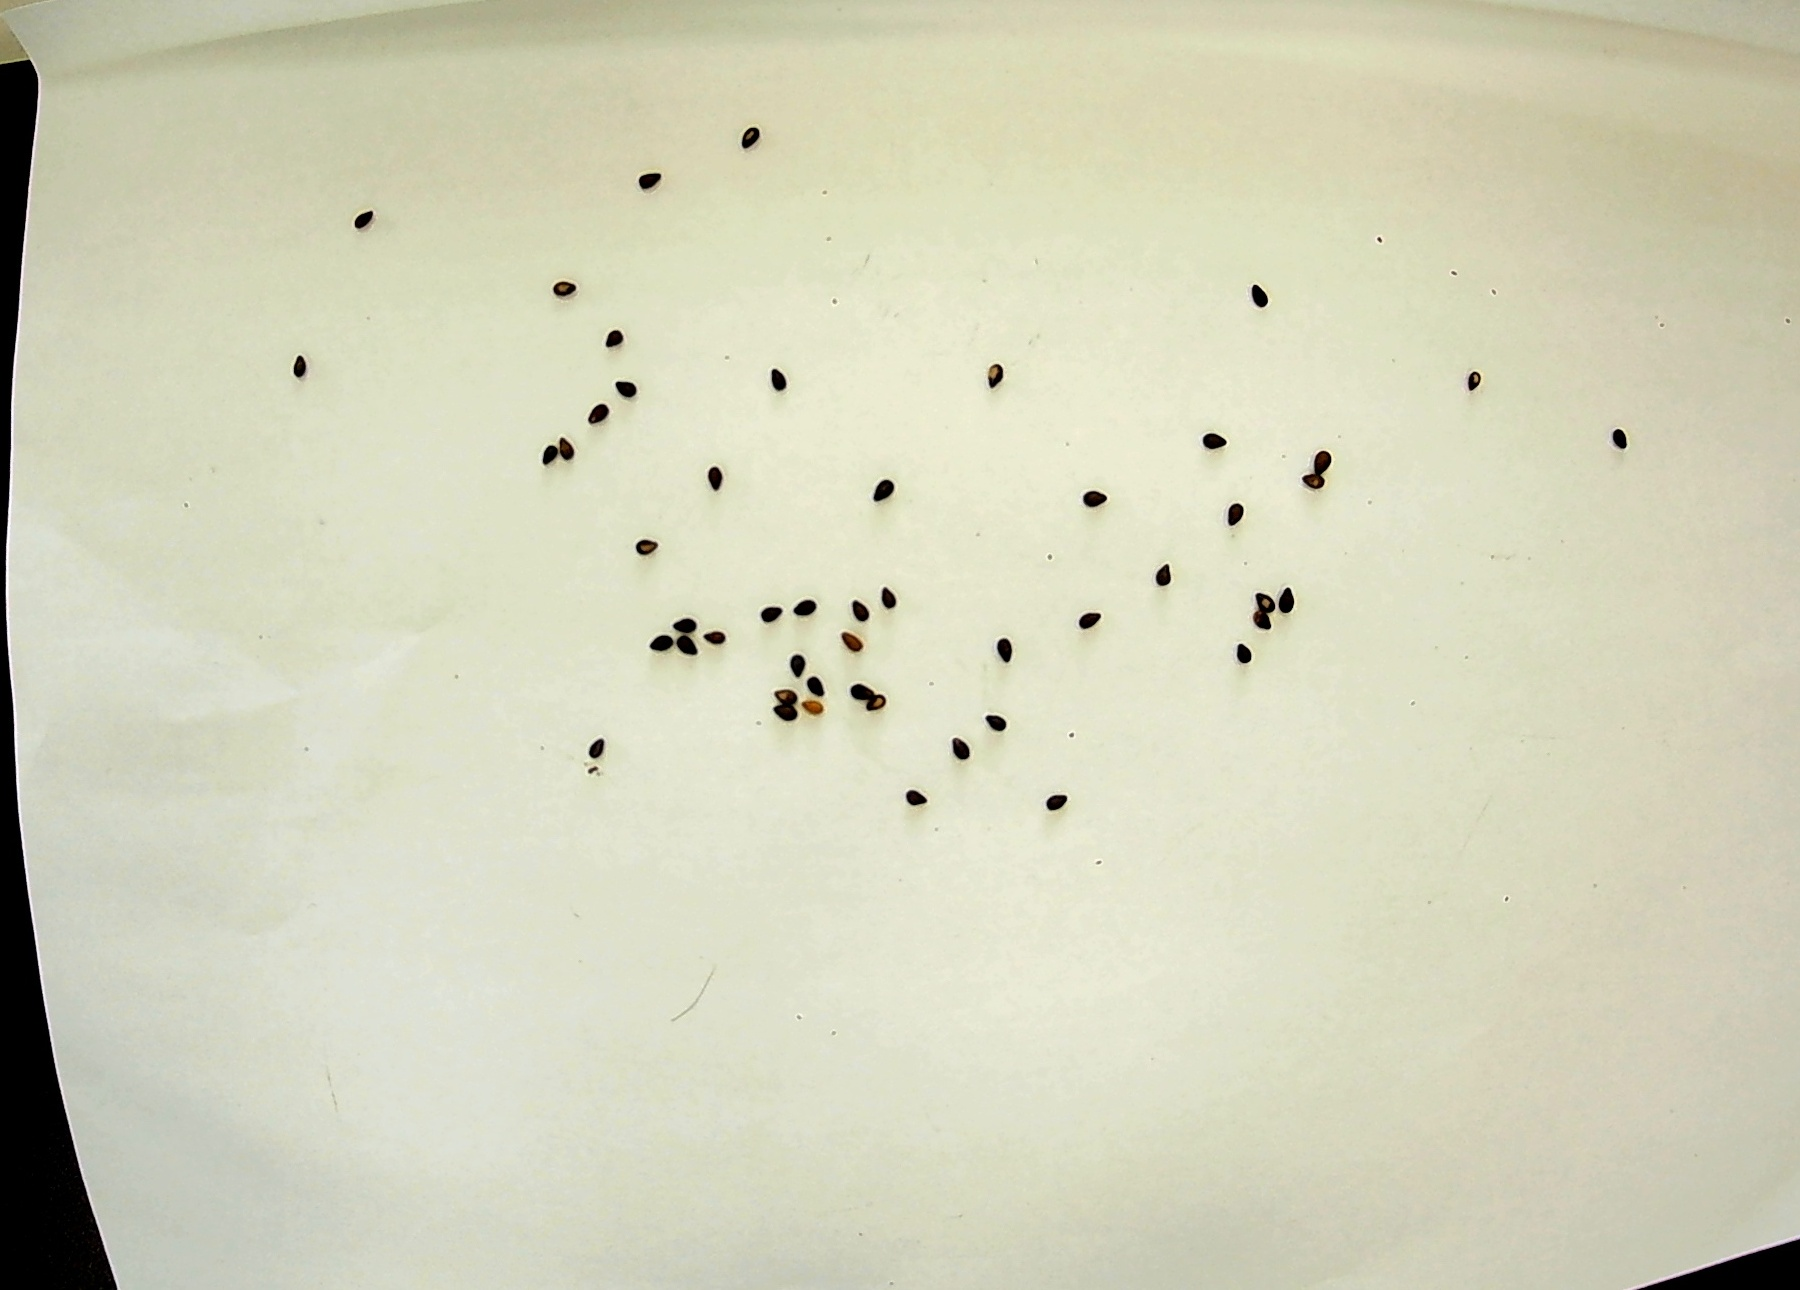sesami: (1137, 554, 1178, 599), (607, 369, 659, 403), (973, 350, 1010, 395), (1187, 424, 1232, 459), (345, 207, 392, 239), (935, 727, 982, 758), (753, 364, 800, 395), (615, 533, 661, 563), (1450, 364, 1487, 399), (1072, 480, 1113, 511), (587, 390, 611, 443), (862, 472, 894, 511), (551, 431, 585, 468), (896, 780, 932, 813), (645, 632, 685, 660), (537, 276, 585, 300), (788, 589, 819, 625), (1305, 450, 1347, 476), (527, 438, 565, 468), (1218, 500, 1249, 535), (1222, 645, 1259, 674), (1293, 472, 1338, 496), (1047, 787, 1079, 820), (580, 734, 614, 765), (698, 623, 731, 653), (1238, 281, 1270, 311), (1605, 429, 1635, 461), (673, 642, 707, 670), (1250, 607, 1273, 651), (601, 327, 635, 355), (1278, 578, 1299, 623), (991, 638, 1014, 677), (793, 701, 832, 725), (728, 121, 765, 147), (984, 711, 1012, 743), (628, 169, 661, 195), (1080, 607, 1111, 635), (841, 598, 873, 624), (765, 600, 791, 632), (700, 458, 726, 491), (666, 611, 699, 637), (289, 357, 315, 385), (1249, 588, 1275, 616), (868, 704, 894, 732), (880, 579, 903, 611), (846, 674, 876, 697), (843, 627, 872, 649), (766, 706, 795, 727), (766, 685, 795, 704), (786, 653, 802, 679), (805, 674, 825, 692)
